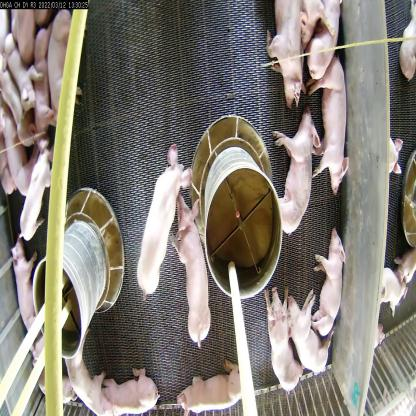Pig: (138, 140, 192, 298), (271, 105, 321, 235), (172, 188, 214, 339), (315, 43, 356, 192), (258, 263, 296, 401), (286, 290, 338, 384), (261, 1, 306, 103), (45, 3, 82, 126), (315, 227, 352, 340), (166, 354, 240, 406), (0, 19, 38, 118), (16, 144, 54, 237), (89, 371, 162, 415), (306, 0, 342, 81), (12, 248, 34, 338)
